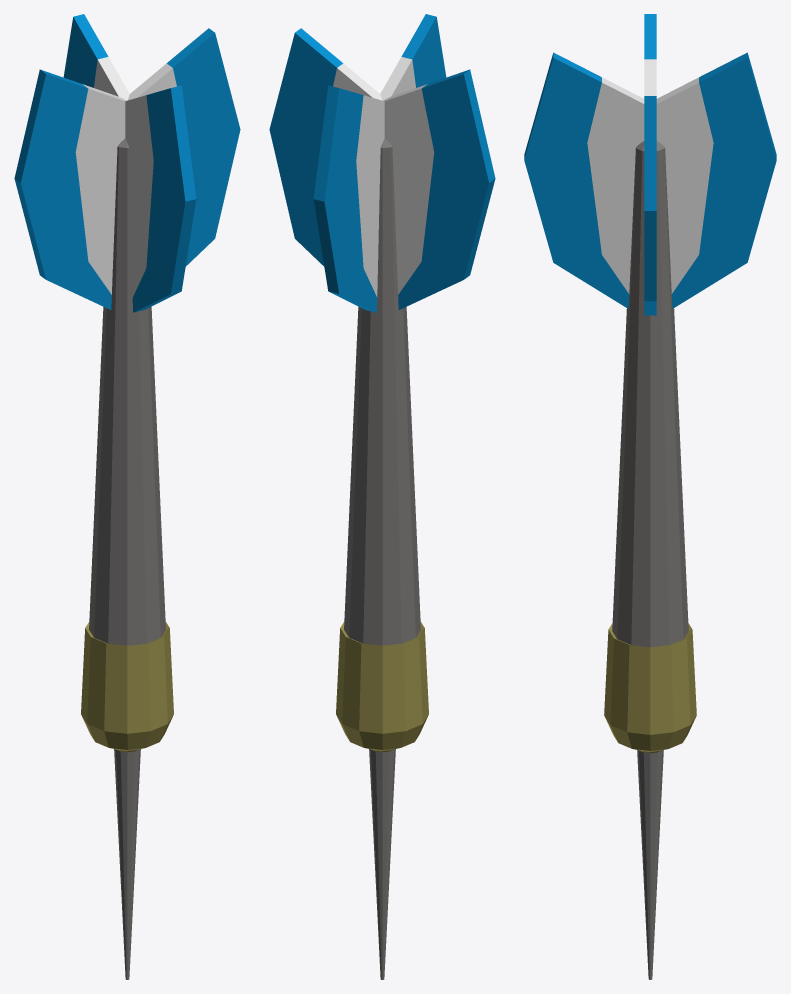
Rendered from Dart 1.fbx.
3 renders of one model, left to right at view 1: azimuth 30°, elevation 25°; view 2: azimuth 150°, elevation 25°; view 3: azimuth 270°, elevation 25°, orthographic.
Visible parts, largest first — view 1: Dart 1; view 2: Dart 1; view 3: Dart 1.
Part boxes in pixels (<box>): Dart 1: <box>14,14,240,979</box>; Dart 1: <box>269,14,495,979</box>; Dart 1: <box>524,14,776,979</box>.
Size of the model in its own units: 47.95 by 194 by 47.95.
